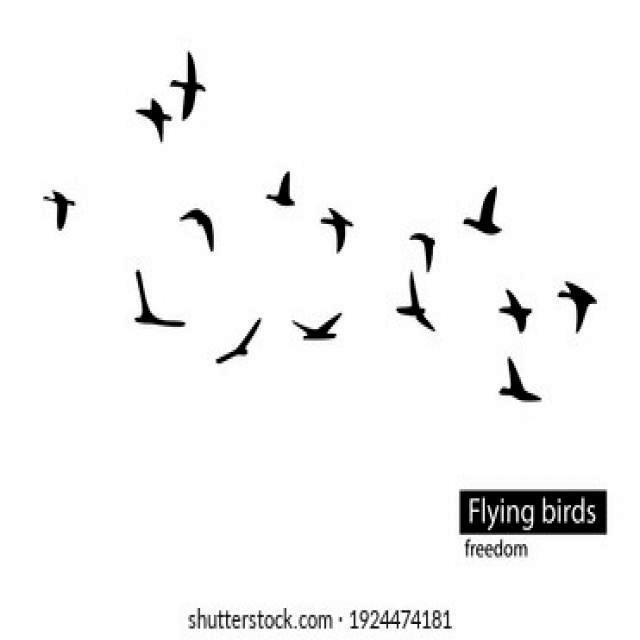bird: (384, 260, 442, 334), (114, 271, 184, 327), (456, 179, 502, 254), (546, 282, 599, 344), (168, 44, 208, 124), (170, 201, 222, 258), (316, 194, 360, 258), (490, 357, 550, 402), (210, 317, 261, 368), (254, 158, 294, 222), (393, 222, 441, 272), (493, 282, 538, 334), (134, 90, 174, 148), (290, 302, 347, 341), (32, 183, 78, 230)
